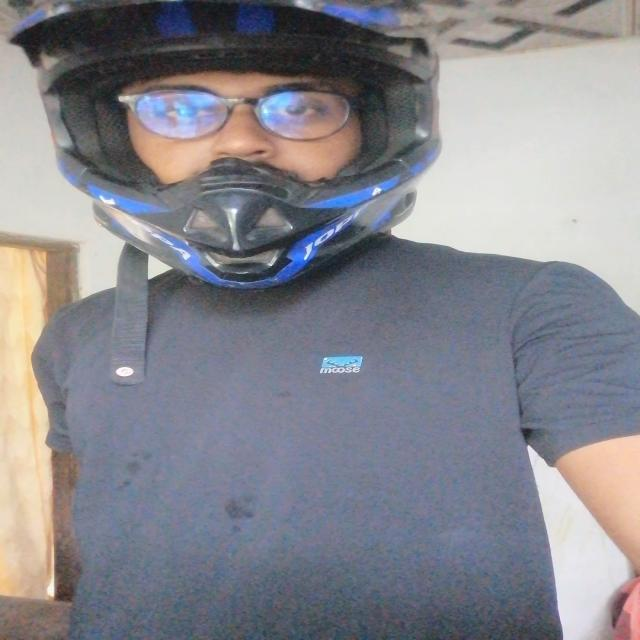Helmet_Wearer: (13, 0, 470, 273)
